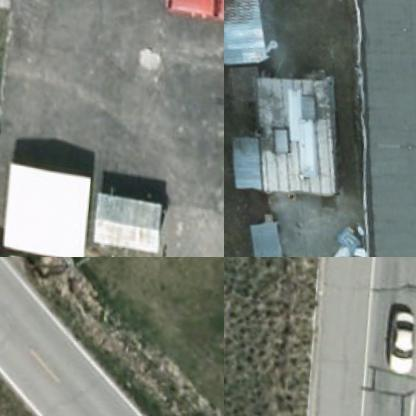car: (382, 303, 415, 370), (157, 0, 223, 19)
